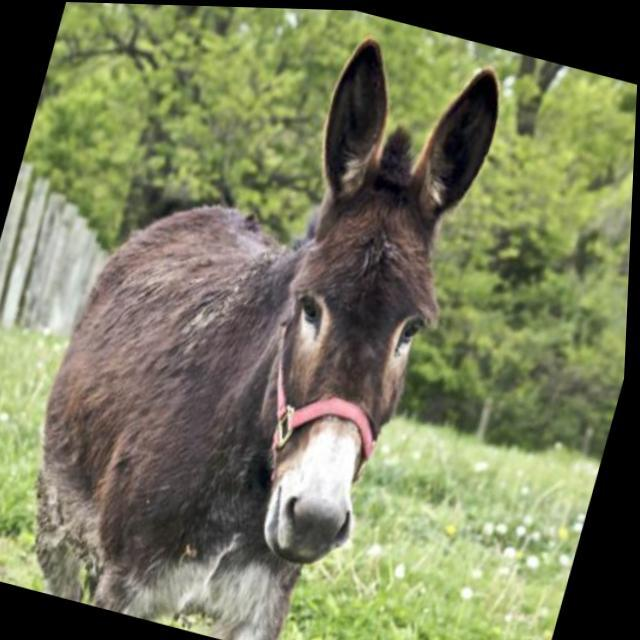Donkey: (3, 1, 512, 640)
